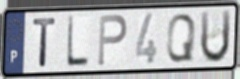4: (134, 11, 159, 68)
L: (65, 15, 91, 69)
P: (97, 14, 129, 68)
Q: (165, 12, 198, 65)
T: (32, 16, 59, 69)
U: (199, 8, 233, 66)
